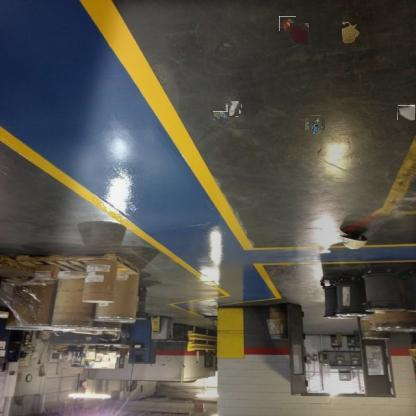dirty: (397, 105, 415, 120), (280, 16, 296, 32), (308, 116, 324, 132), (226, 102, 240, 116), (212, 111, 228, 120)
liquid: (340, 22, 360, 46), (289, 23, 309, 45)
